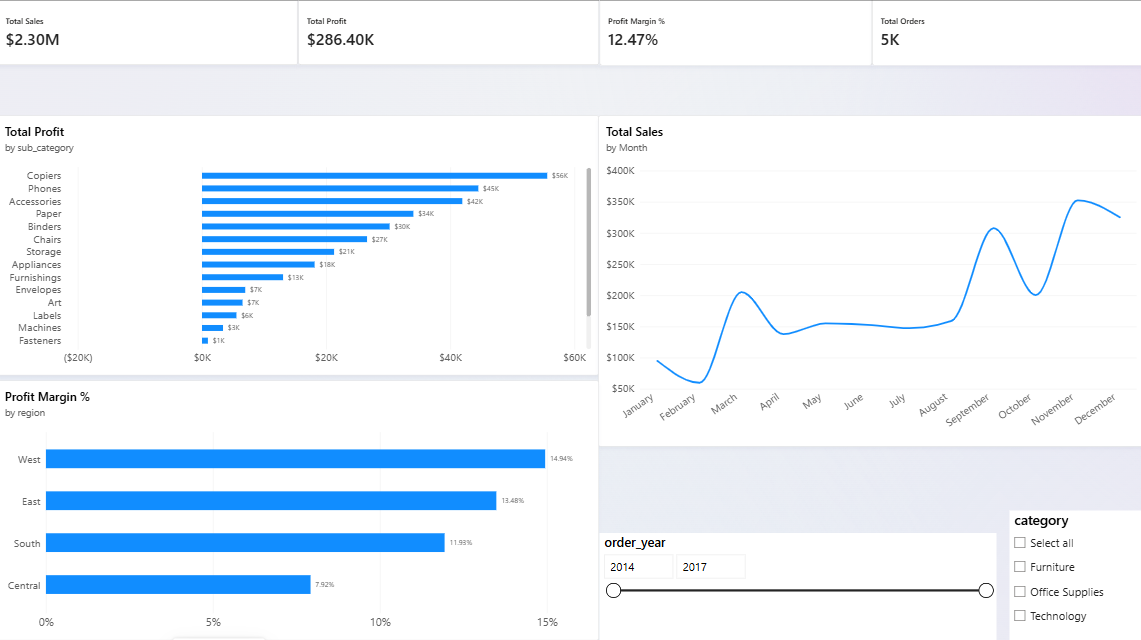

This screenshot's page, from the dashboard's own definition file:
{"tool":"powerbi","page":{"name":"Dashboard","canvas":[1920,1080],"ordinal":0},"visuals":[{"type":"cardVisual","fields":{"Data":["superstore_clean.Total Sales"]},"box":[0,0,503.6,112.8],"z":0},{"type":"cardVisual","fields":{"Data":["superstore_clean.Total Profit"]},"box":[503.6,0,503.6,112.8],"z":1000},{"type":"cardVisual","fields":{"Data":["superstore_clean.Profit Margin %"]},"box":[1006.5,0,456.9,113.2],"z":2000},{"type":"cardVisual","fields":{"Data":["superstore_clean.Total Orders"]},"box":[1463.5,0,456.9,113.2],"z":3000},{"type":"clusteredBarChart","fields":{"Category":["superstore_clean.sub_category"],"Y":["superstore_clean.Total Profit"]},"box":[0,195.5,1006.5,434.3],"z":4000},{"type":"lineChart","fields":{"Category":["superstore_clean.order_date.Variation.Date Hierarchy.Year","superstore_clean.order_date.Variation.Date Hierarchy.Month"],"Y":["superstore_clean.Total Sales"]},"box":[1005.1,196.4,913.2,553.8],"z":5000},{"type":"clusteredBarChart","fields":{"Category":["superstore_clean.region"],"Y":["superstore_clean.Profit Margin %"]},"box":[0,640.1,1006.5,434.3],"z":6000},{"type":"slicer","fields":{"Values":["superstore_clean.order_year"]},"box":[1007.2,894.4,662.4,179.7],"z":7000},{"type":"slicer","fields":{"Values":["superstore_clean.category"]},"box":[1692.6,856.8,227.8,217.3],"z":8000}]}

Visuals, with their boxes in screenshot pixels (x1, y1, x2, y2), scaled from the page's 1920x1080 canvas onto the 1141x640 screenshot:
cardVisual - superstore_clean.Total Sales: locate(0, 0, 299, 67)
cardVisual - superstore_clean.Total Profit: locate(299, 0, 599, 67)
cardVisual - superstore_clean.Profit Margin %: locate(598, 0, 870, 67)
cardVisual - superstore_clean.Total Orders: locate(870, 0, 1140, 67)
clusteredBarChart - superstore_clean.sub_category x superstore_clean.Total Profit: locate(0, 116, 598, 373)
lineChart - superstore_clean.order_date.Variation.Date Hierarchy.Year x superstore_clean.order_date.Variation.Date Hierarchy.Month: locate(597, 116, 1140, 445)
clusteredBarChart - superstore_clean.region x superstore_clean.Profit Margin %: locate(0, 379, 598, 637)
slicer - superstore_clean.order_year: locate(599, 530, 992, 637)
slicer - superstore_clean.category: locate(1006, 508, 1140, 637)
